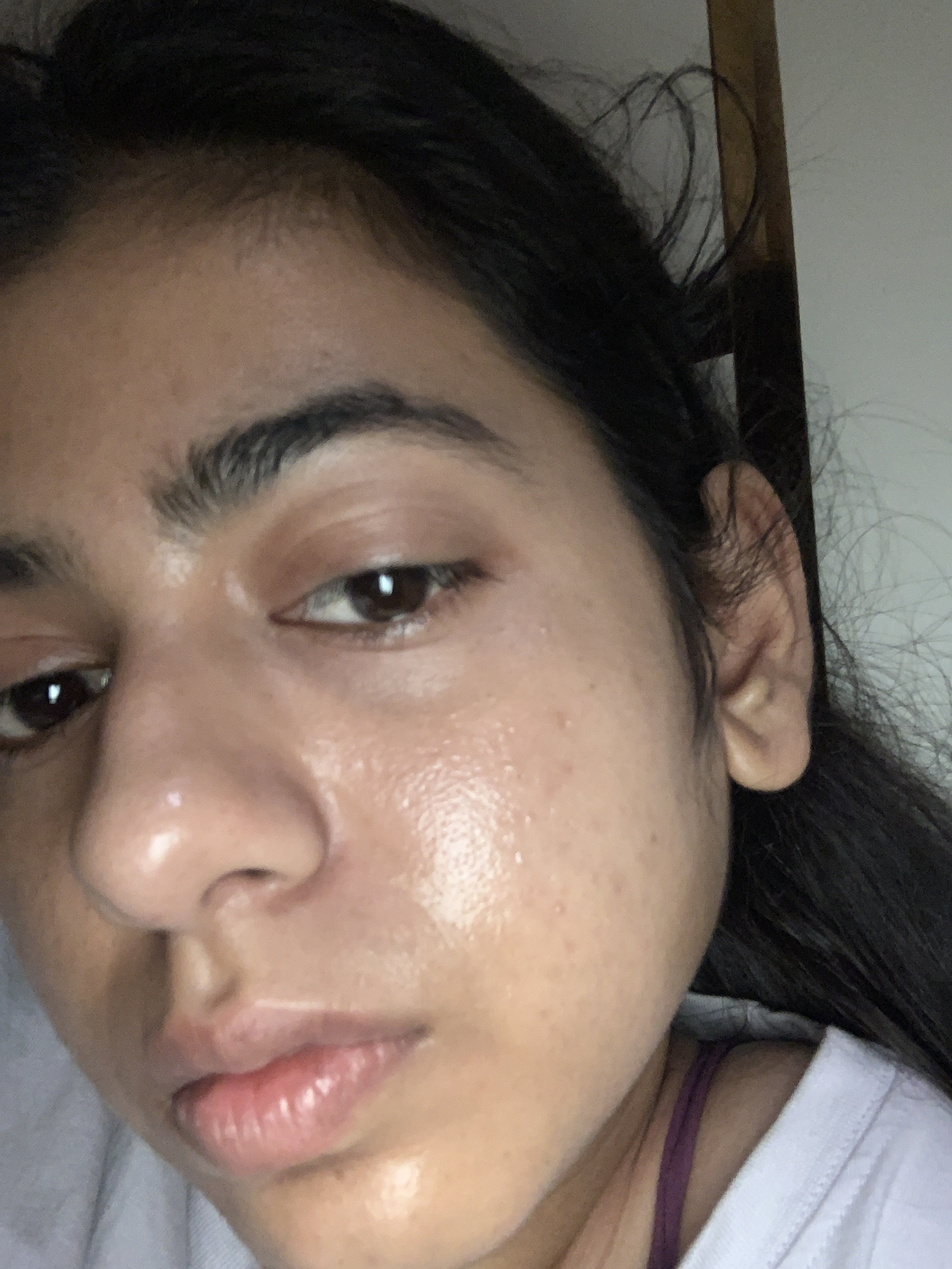closed_comedone: (444, 711, 522, 781), (487, 789, 533, 868), (553, 904, 567, 914), (537, 627, 552, 635)
